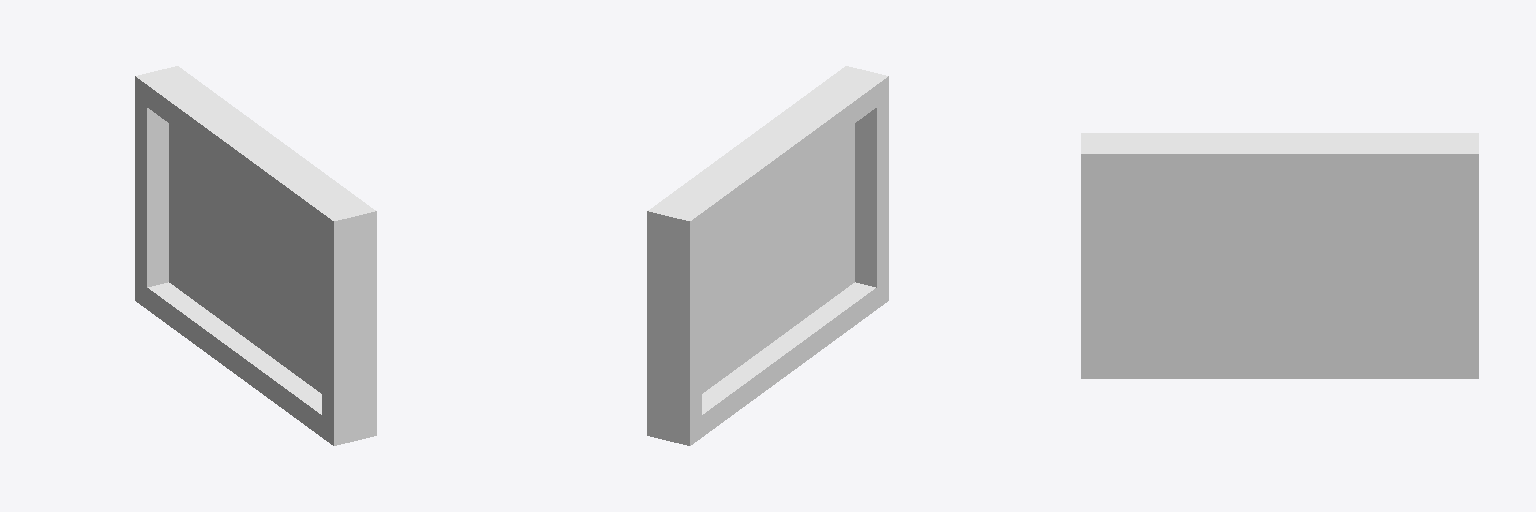
The model's file is label.obj.
The picture shows the model from 3 angles: view 1: azimuth 30°, elevation 25°; view 2: azimuth 150°, elevation 25°; view 3: azimuth 270°, elevation 25°; orthographic projection.
Visible parts, largest first — view 1: label; view 2: label; view 3: label.
Boxes of the visible parts, x1=… form: label: x1=135, y1=66, x2=376, y2=445; label: x1=647, y1=66, x2=888, y2=445; label: x1=1081, y1=133, x2=1478, y2=378.
Bounding box in the file's own units: 0.0625 × 0.312 × 0.5.